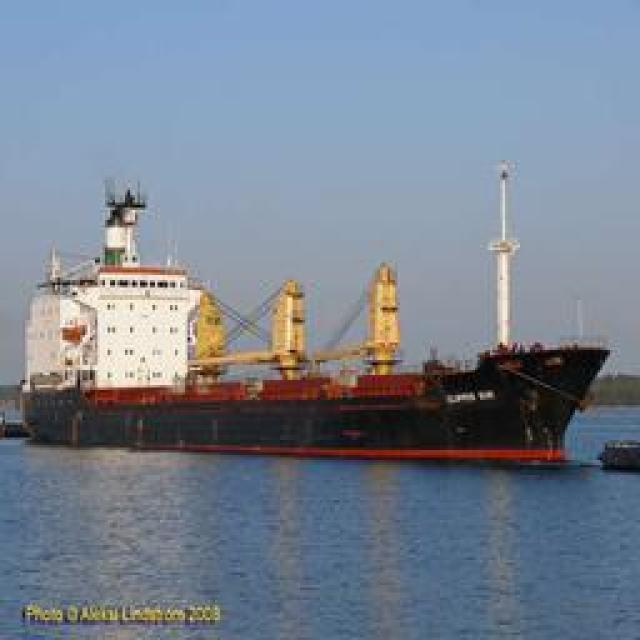CIV_Ship: (29, 258, 624, 460)
